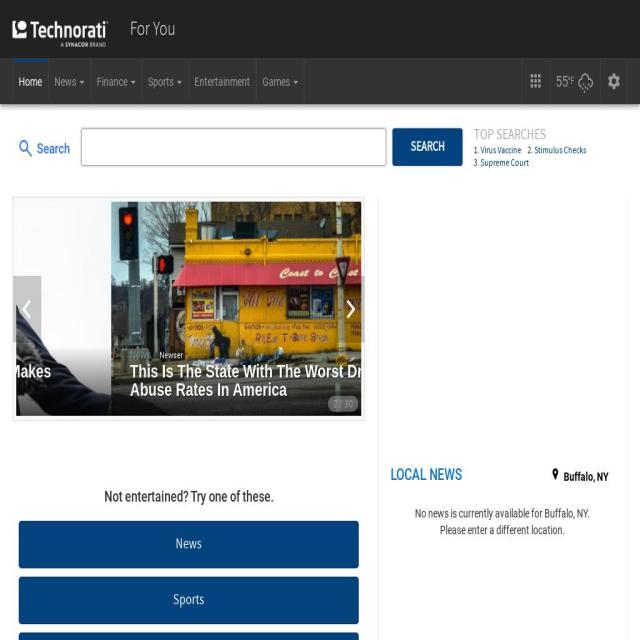button: (16, 202, 362, 416), (361, 202, 640, 416), (19, 521, 359, 568), (19, 577, 359, 624), (0, 8, 121, 50), (0, 202, 16, 416), (188, 59, 256, 101), (19, 632, 359, 640), (121, 8, 185, 50), (392, 128, 462, 166), (550, 59, 600, 104), (90, 59, 142, 101), (256, 59, 304, 101), (142, 59, 188, 101), (13, 275, 41, 343), (336, 275, 364, 343), (48, 59, 91, 101), (548, 465, 614, 488), (13, 59, 48, 101)
field: (81, 128, 386, 166)
heading: (35, 361, 301, 400), (380, 361, 629, 400), (25, 488, 353, 504)
image: (13, 21, 108, 47), (16, 131, 74, 166), (343, 292, 358, 326), (20, 292, 34, 326)
link: (534, 144, 586, 158), (481, 157, 528, 170), (481, 144, 521, 158), (35, 348, 56, 361), (380, 348, 401, 361)
text: (391, 464, 508, 488), (440, 523, 562, 537), (415, 507, 543, 520), (474, 125, 546, 145), (522, 59, 550, 104), (600, 59, 628, 104), (130, 16, 176, 42), (560, 466, 612, 487), (194, 75, 250, 88), (542, 507, 590, 520), (97, 75, 129, 88), (64, 350, 101, 361), (262, 75, 292, 88), (148, 75, 176, 88), (409, 350, 439, 361), (54, 75, 78, 88), (19, 75, 42, 88), (556, 72, 568, 90), (344, 398, 354, 410), (338, 398, 344, 410), (333, 398, 338, 410), (563, 523, 565, 537)
